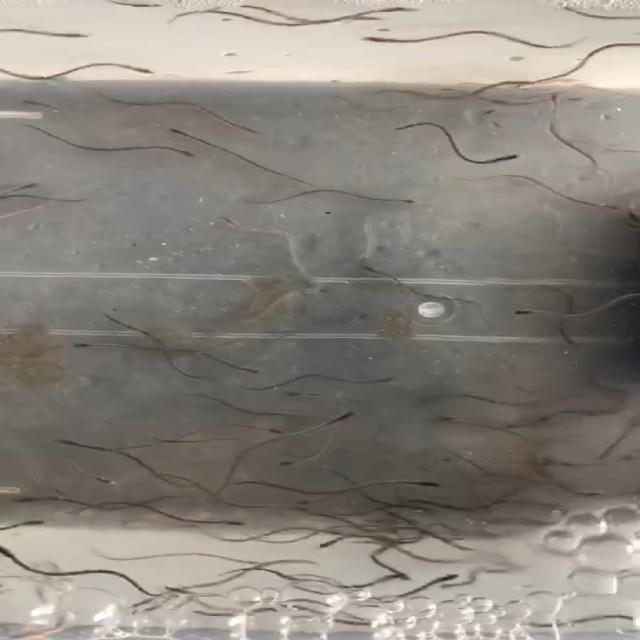active_glass_eel: (425, 526, 481, 556), (552, 484, 628, 501), (366, 477, 456, 491), (420, 406, 463, 432), (483, 144, 525, 170), (154, 578, 204, 599), (357, 32, 411, 51), (6, 517, 62, 534), (230, 115, 266, 141), (584, 196, 624, 219), (369, 363, 404, 389), (204, 212, 248, 232), (90, 473, 125, 498), (342, 308, 380, 331), (292, 281, 335, 301), (388, 191, 436, 208), (154, 120, 199, 138), (314, 412, 366, 427), (70, 339, 122, 354), (375, 560, 410, 582), (298, 537, 346, 553), (498, 416, 544, 432), (240, 425, 290, 439), (204, 519, 254, 533), (351, 261, 391, 278), (218, 364, 265, 378), (64, 28, 114, 41), (48, 435, 86, 452), (426, 573, 465, 589), (164, 144, 198, 161), (504, 304, 540, 320), (544, 90, 576, 108), (380, 571, 410, 588), (0, 545, 34, 560), (515, 79, 549, 94), (122, 63, 155, 78), (419, 87, 463, 98), (132, 1, 172, 12), (277, 389, 316, 400), (281, 458, 316, 470), (354, 11, 382, 24), (13, 180, 48, 190), (386, 6, 412, 17)
